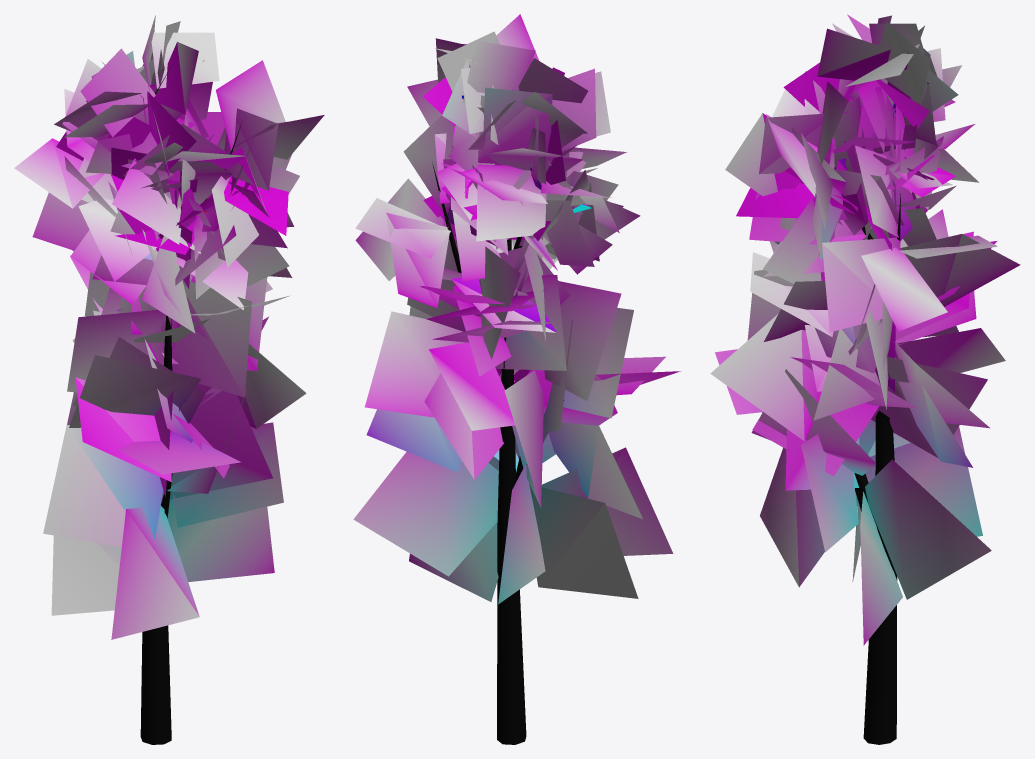
Rendered from birch_01_b.dae.
3 renders of one model, left to right at view 1: azimuth 30°, elevation 25°; view 2: azimuth 150°, elevation 25°; view 3: azimuth 270°, elevation 25°, orthographic. The views are drawn at different scales.
Visible parts, largest first — view 1: birchb80; view 2: birchb80; view 3: birchb80.
Boxes of the visible parts, x1,y1,x2,y2 form: birchb80: (14, 15, 324, 744); birchb80: (353, 14, 680, 744); birchb80: (710, 14, 1020, 744).
Size of what is drawn, in the model's own units: 8.03 by 7.82 by 20.12.
